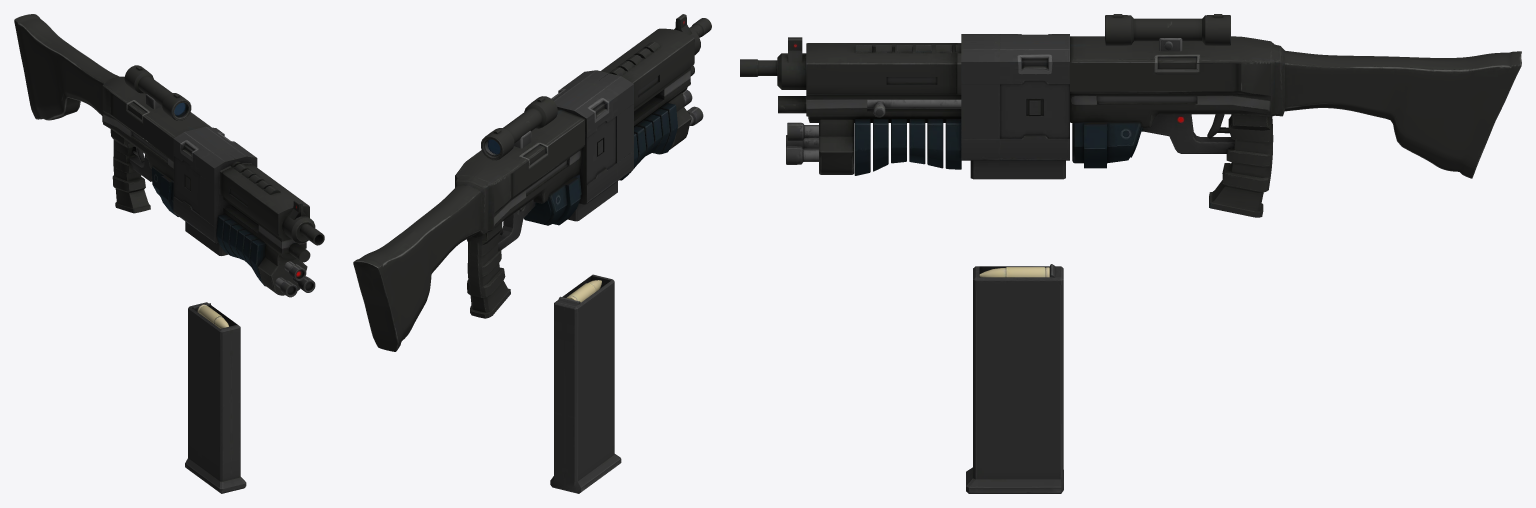
The model's file is cobra.glb.
3 renders of one model, left to right at view 1: azimuth 30°, elevation 25°; view 2: azimuth 150°, elevation 25°; view 3: azimuth 270°, elevation 25°, orthographic. The views are drawn at different scales.
Visible parts, largest first — view 1: Gun, Magazine, Stock, Sight, Barrel; view 2: Gun, Magazine, Stock, Sight, Barrel, Gun.001; view 3: Gun, Magazine, Stock, Sight, Barrel, Bolt.
Part boxes in pixels (x1,y1,x2,y2): Gun: (102,76,310,295); Magazine: (185,302,246,493); Stock: (14,14,118,120); Sight: (124,65,191,120); Barrel: (282,199,324,245); Gun: (455,28,694,318); Magazine: (550,274,621,493); Stock: (353,185,480,351); Sight: (481,96,557,160); Barrel: (674,14,711,54); Gun.001: (498,199,536,249); Gun: (778,34,1284,217); Magazine: (966,264,1063,493); Stock: (1284,50,1521,178); Sight: (1105,14,1230,45); Barrel: (740,37,806,89); Bolt: (867,99,961,117).
Bounding box in the file's own units: 222 × 1687 × 2532.
Materials: 1 (1 with a texture image).
